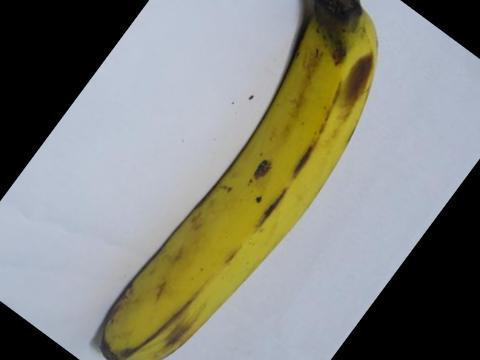ripe: (80, 0, 417, 359)
